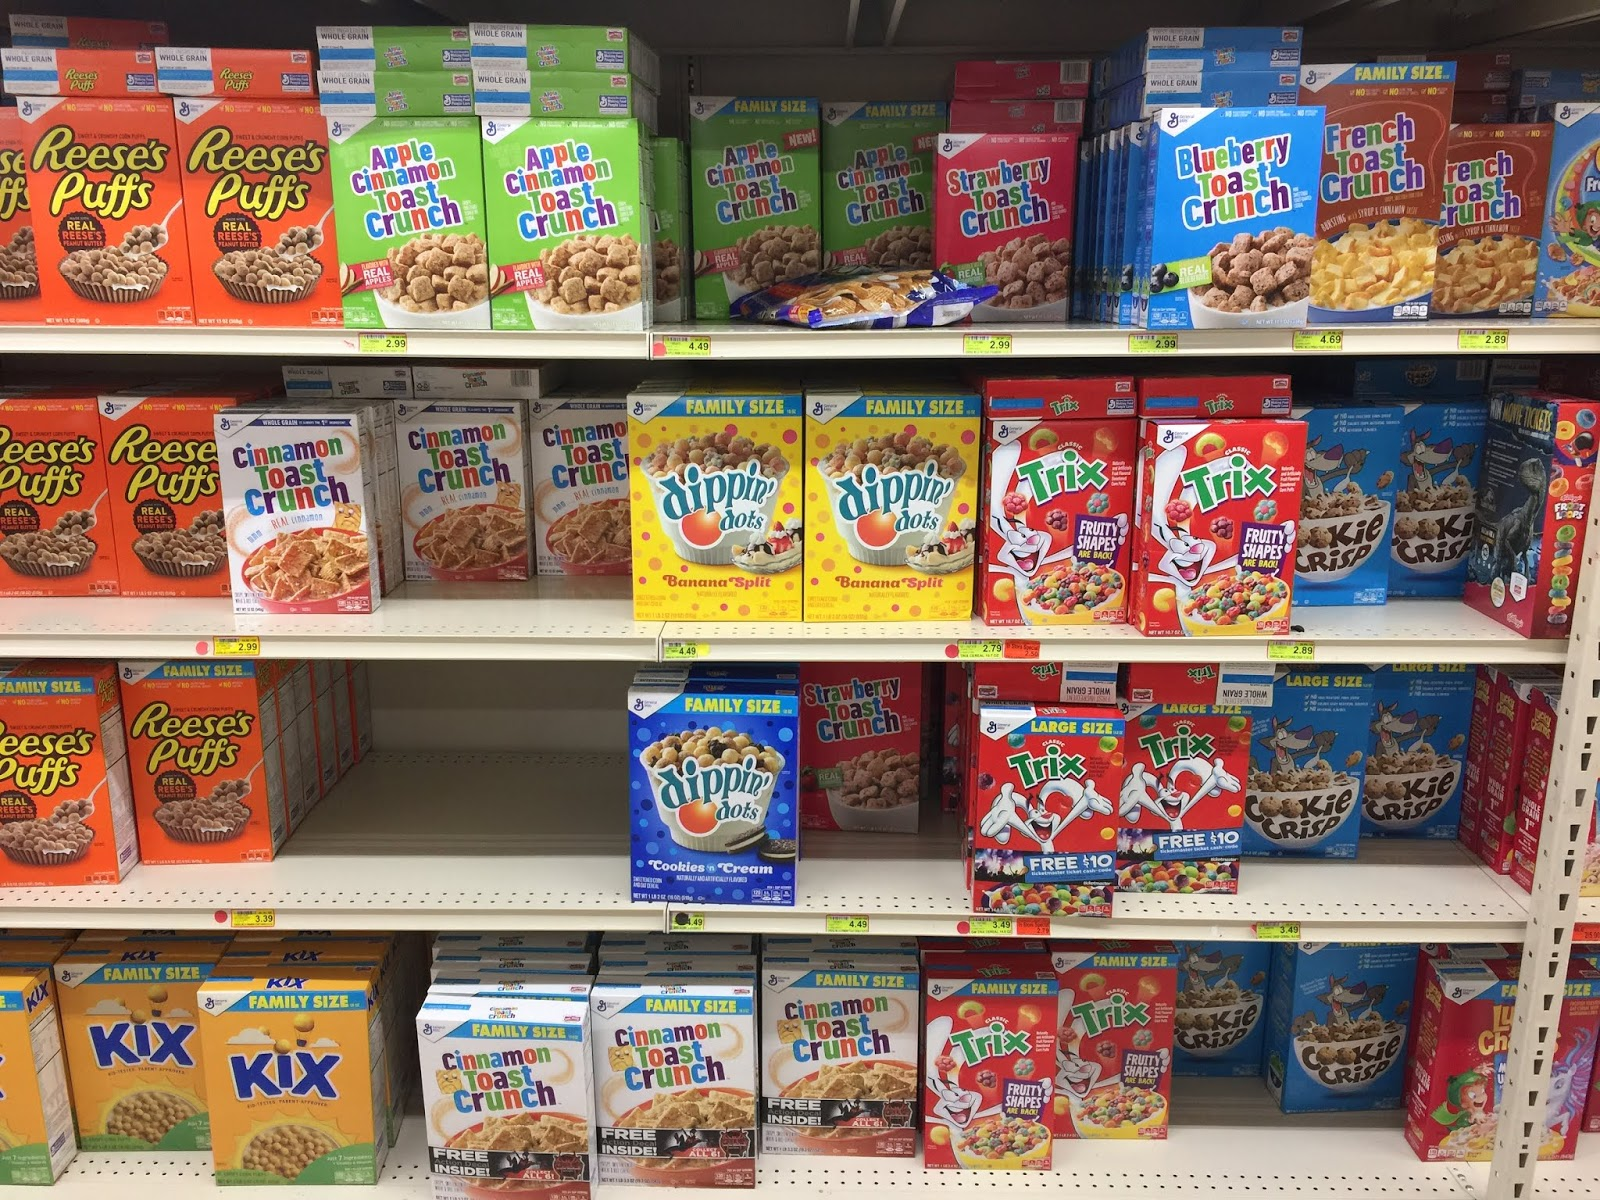cereal: (809, 397, 978, 618), (630, 695, 795, 909), (637, 405, 800, 618), (328, 118, 489, 325), (116, 661, 273, 863), (1148, 424, 1299, 633), (490, 124, 641, 325), (202, 1000, 363, 1187), (1157, 110, 1298, 324), (593, 1008, 762, 1187), (995, 424, 1146, 623), (428, 1024, 598, 1200), (60, 971, 215, 1156), (983, 715, 1112, 926), (762, 982, 921, 1155), (100, 400, 236, 599), (228, 420, 354, 623), (923, 984, 1067, 1160), (688, 140, 826, 313), (1317, 113, 1427, 320), (939, 136, 1065, 318), (1247, 686, 1374, 863), (1117, 713, 1243, 892), (1432, 129, 1547, 323), (1053, 955, 1173, 1139), (1288, 408, 1398, 605), (1296, 945, 1417, 1112), (1385, 415, 1488, 608), (407, 425, 527, 587), (1, 691, 94, 892), (821, 137, 944, 282), (538, 402, 632, 584)
